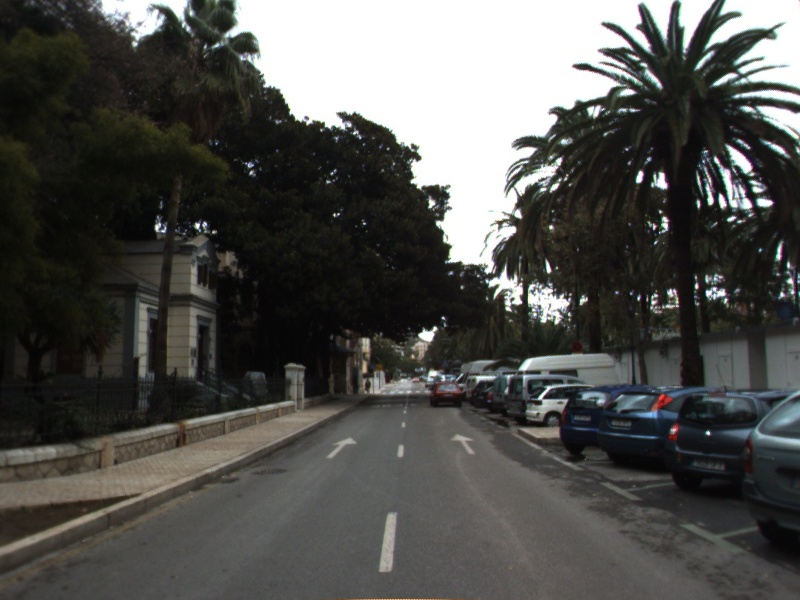STRAIGHT: (324, 435, 359, 460), (449, 432, 477, 456)
